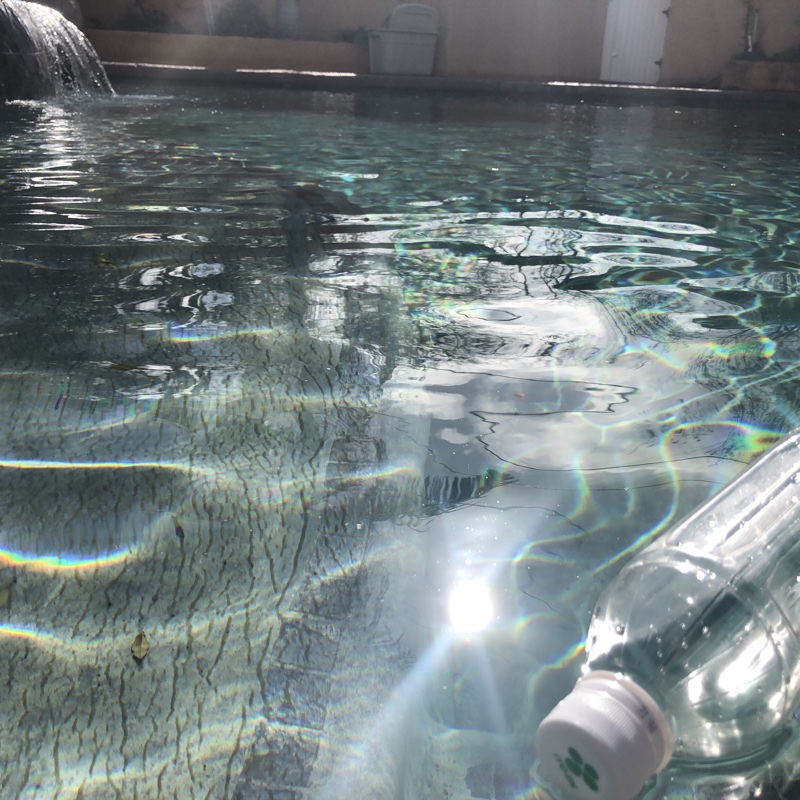Plastic Bottle: (514, 426, 800, 800)
